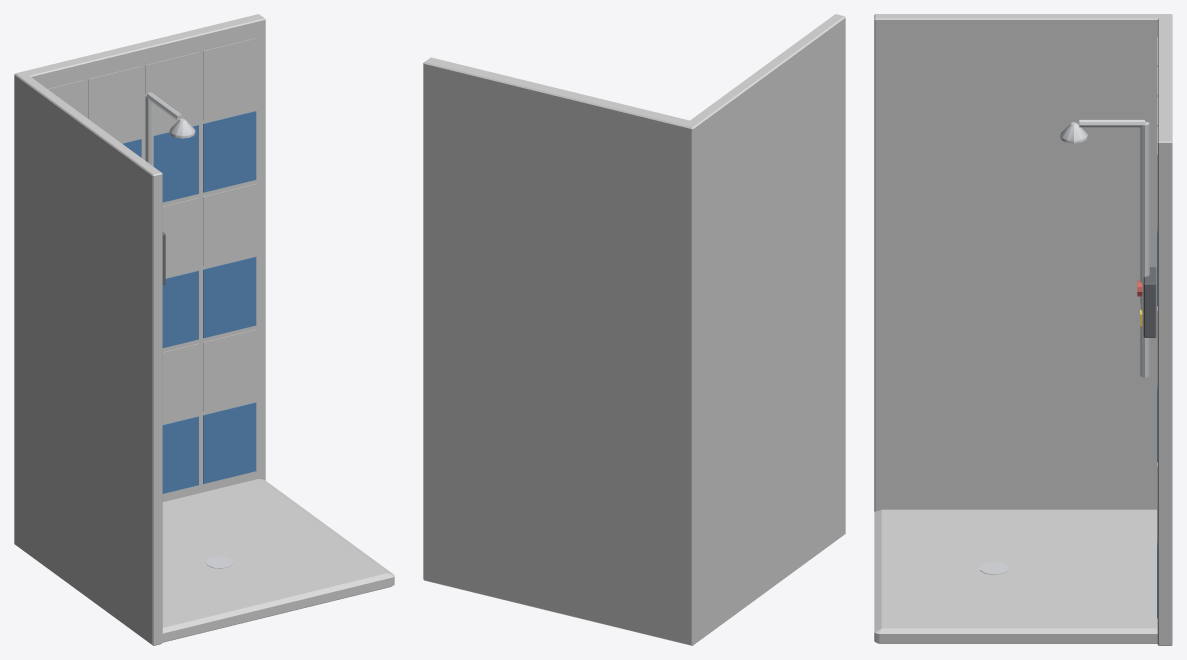
File: community-sports-hall-and-changing-rooms-shower-cubicl-0dd6d129__35107.glb
3 views of the same model, side by side, from view 1: azimuth 30°, elevation 25°; view 2: azimuth 150°, elevation 25°; view 3: azimuth 270°, elevation 25° (orthographic). The views are drawn at different scales.
Visible parts, largest first — view 1: shower-cubicle-module; view 2: shower-cubicle-module; view 3: shower-cubicle-module.
Part boxes in pixels (<box>): shower-cubicle-module: <box>14,14,394,645</box>; shower-cubicle-module: <box>423,14,845,645</box>; shower-cubicle-module: <box>874,14,1172,645</box>.
Bounding box in the file's own units: 1.2 × 2.2 × 1.18.
